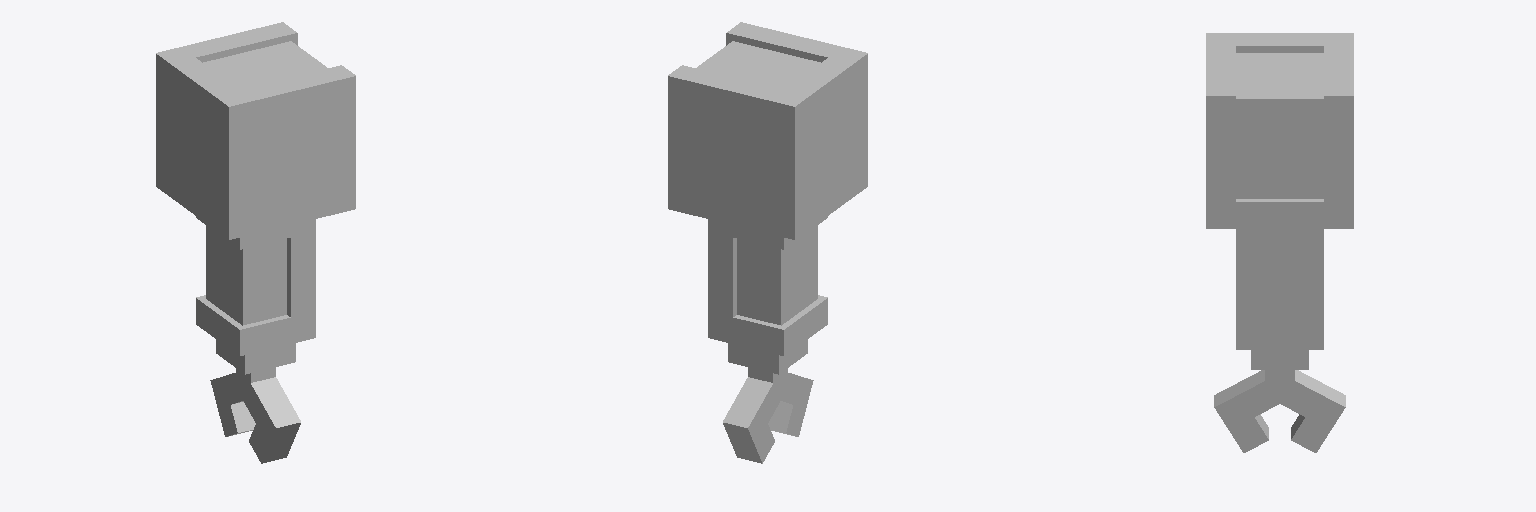
Rendered from arm_grabber_r.obj.
The picture shows the model from 3 angles: view 1: azimuth 30°, elevation 25°; view 2: azimuth 150°, elevation 25°; view 3: azimuth 270°, elevation 25°; orthographic projection.
Parts seen in each view (by area): view 1: ARM_RIGHT_GRABBY.OBSVAR_Cube.330; view 2: ARM_RIGHT_GRABBY.OBSVAR_Cube.330; view 3: ARM_RIGHT_GRABBY.OBSVAR_Cube.330.
Boxes of the visible parts, box(x1,y1,x2,y2) form: ARM_RIGHT_GRABBY.OBSVAR_Cube.330: box(156, 22, 355, 463); ARM_RIGHT_GRABBY.OBSVAR_Cube.330: box(668, 22, 867, 463); ARM_RIGHT_GRABBY.OBSVAR_Cube.330: box(1206, 33, 1353, 452).
Bounding box in the file's own units: 0.3125 × 0.8979 × 0.3125.